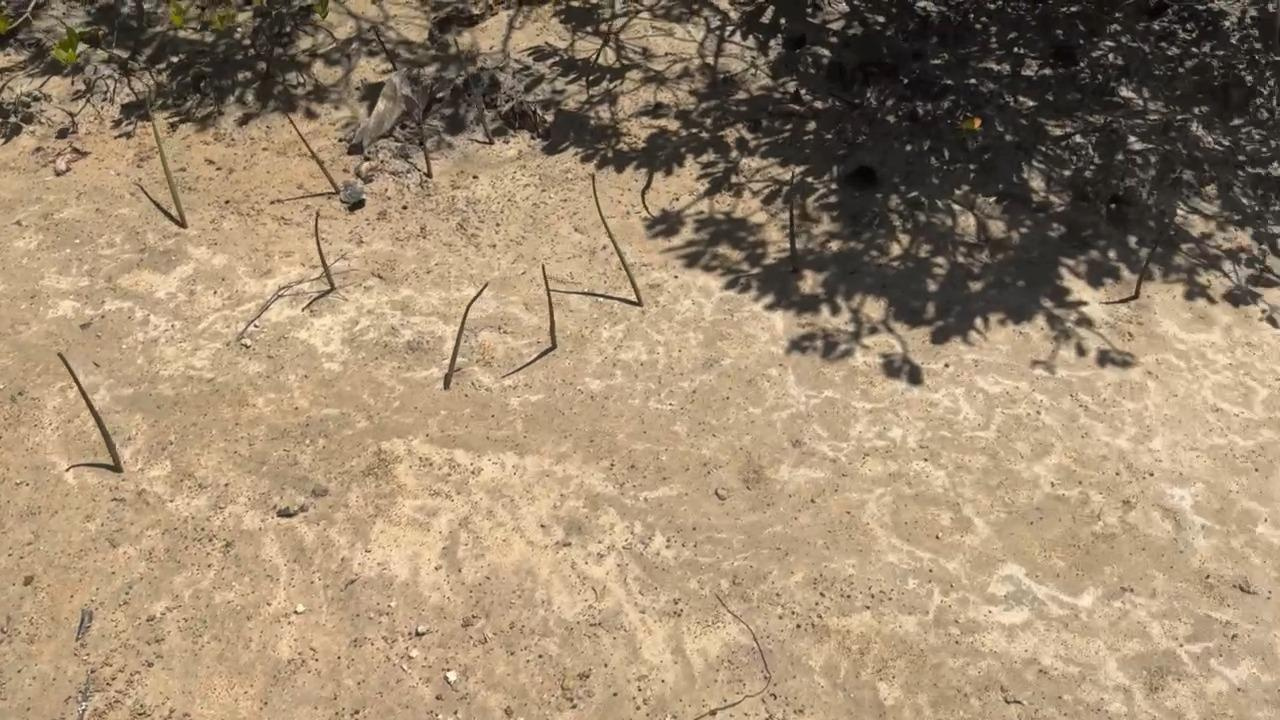Tree: (56, 351, 124, 474), (591, 170, 646, 309), (146, 105, 189, 229), (281, 106, 341, 194), (451, 36, 496, 145), (447, 282, 492, 385), (1132, 223, 1172, 299), (414, 72, 434, 180), (314, 206, 337, 291), (539, 259, 559, 349), (788, 170, 802, 270), (371, 25, 397, 71)
